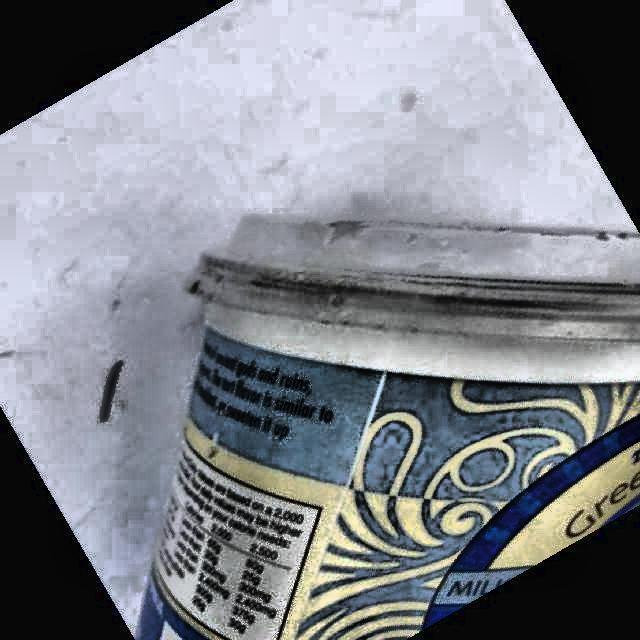plastic: (140, 218, 640, 639)
